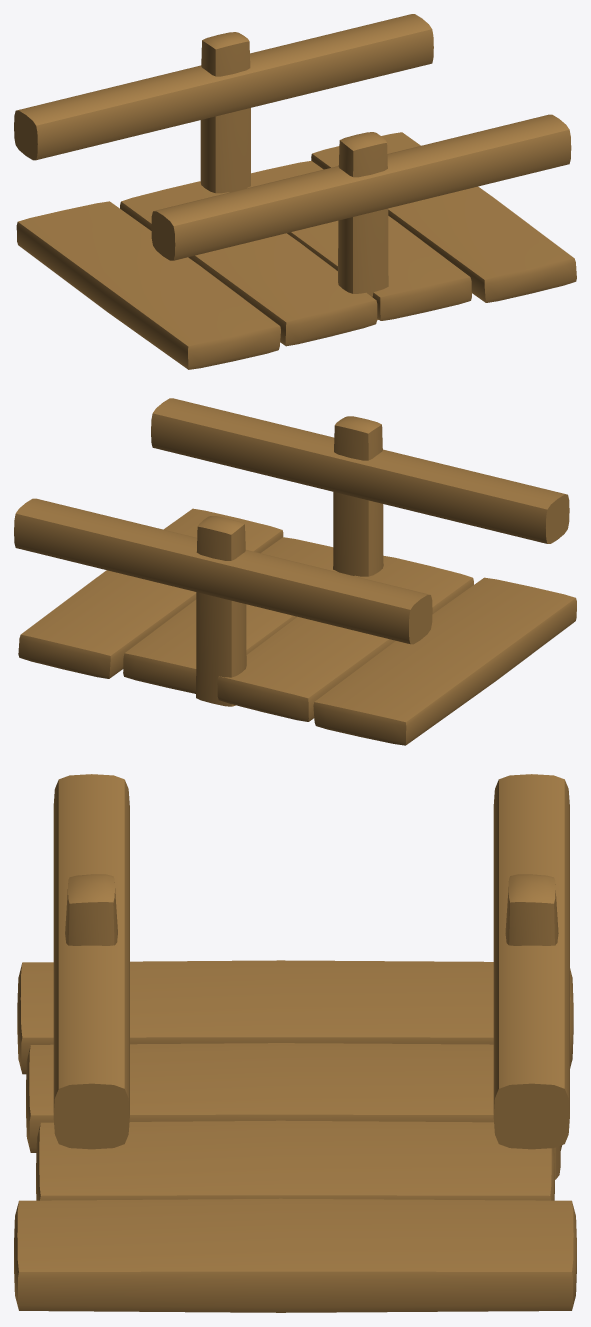
Rendered from Bridge_Modular_Center.fbx.
3 views of the same model, one above another, from view 1: azimuth 30°, elevation 25°; view 2: azimuth 150°, elevation 25°; view 3: azimuth 270°, elevation 25° (orthographic). The views are drawn at different scales.
Visible parts, largest first — view 1: Bridge_Modular_Center; view 2: Bridge_Modular_Center; view 3: Bridge_Modular_Center.
Part boxes in pixels (box(x1,y1,x2,y2)): Bridge_Modular_Center: box(14, 14, 576, 369); Bridge_Modular_Center: box(14, 398, 576, 745); Bridge_Modular_Center: box(14, 774, 576, 1312).
Bounding box in the file's own units: 3 × 1.29 × 2.31.
